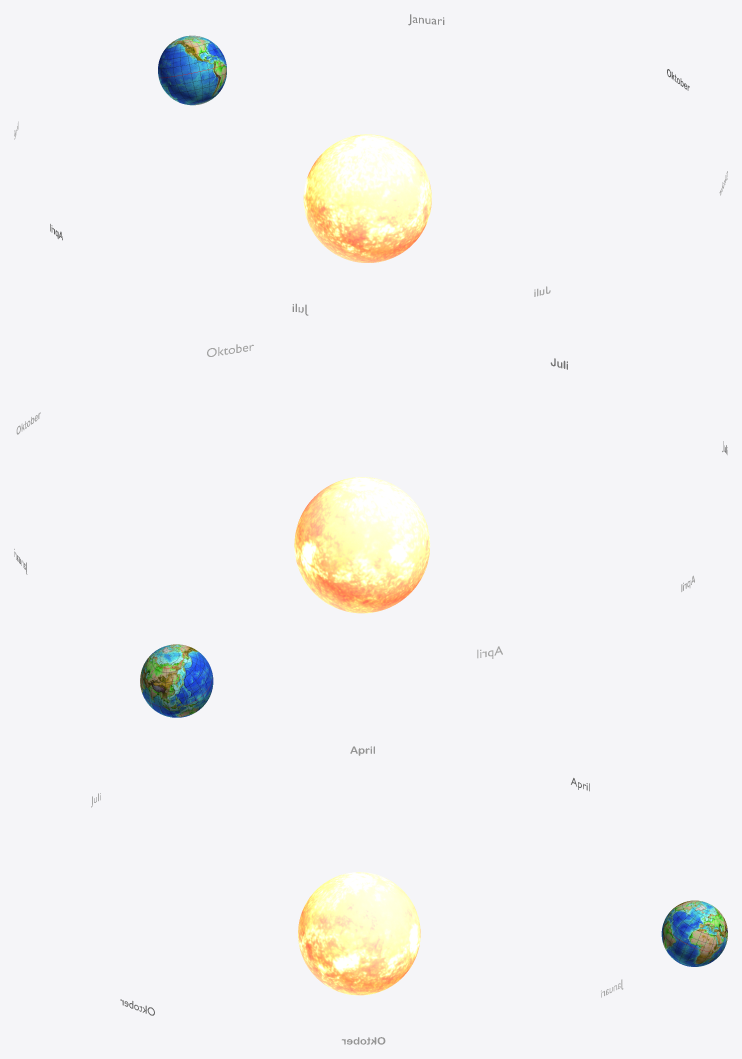
File: 4earth_cycle_year.glb
The picture shows the model from 3 angles, top to bottom: view 1: azimuth 30°, elevation 25°; view 2: azimuth 150°, elevation 25°; view 3: azimuth 270°, elevation 25°; orthographic projection. The views are drawn at different scales.
Visible parts, largest first — view 1: Sphere_1, Sphere.001_4; view 2: Sphere_1, Sphere.001_4; view 3: Sphere_1, Sphere.001_4.
Boxes of the visible parts, x1,y1,x2,y2 form: Sphere_1: (303, 134, 431, 262); Sphere.001_4: (158, 35, 226, 105); Sphere_1: (294, 477, 430, 613); Sphere.001_4: (140, 644, 213, 717); Sphere_1: (298, 872, 420, 995); Sphere.001_4: (661, 900, 727, 966).
Size of the model in its own units: 20.51 by 3.69 by 21.28.
Materials: 6 (1 with a texture image).
